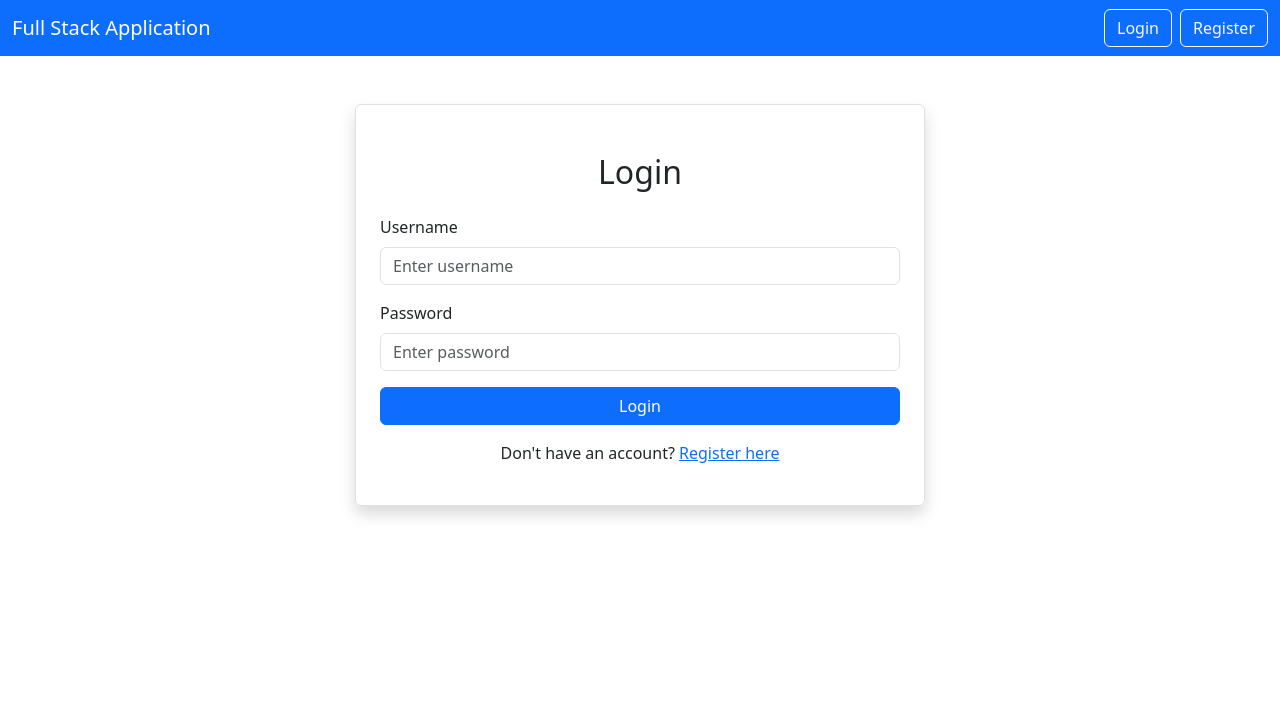
Login Flow Automated Tests › b) Validation Messages Tests › TC_VALIDATION_01: Should show required field validation messages
Step 1. Click the submit button → (640, 406), box [380,387,900,425]
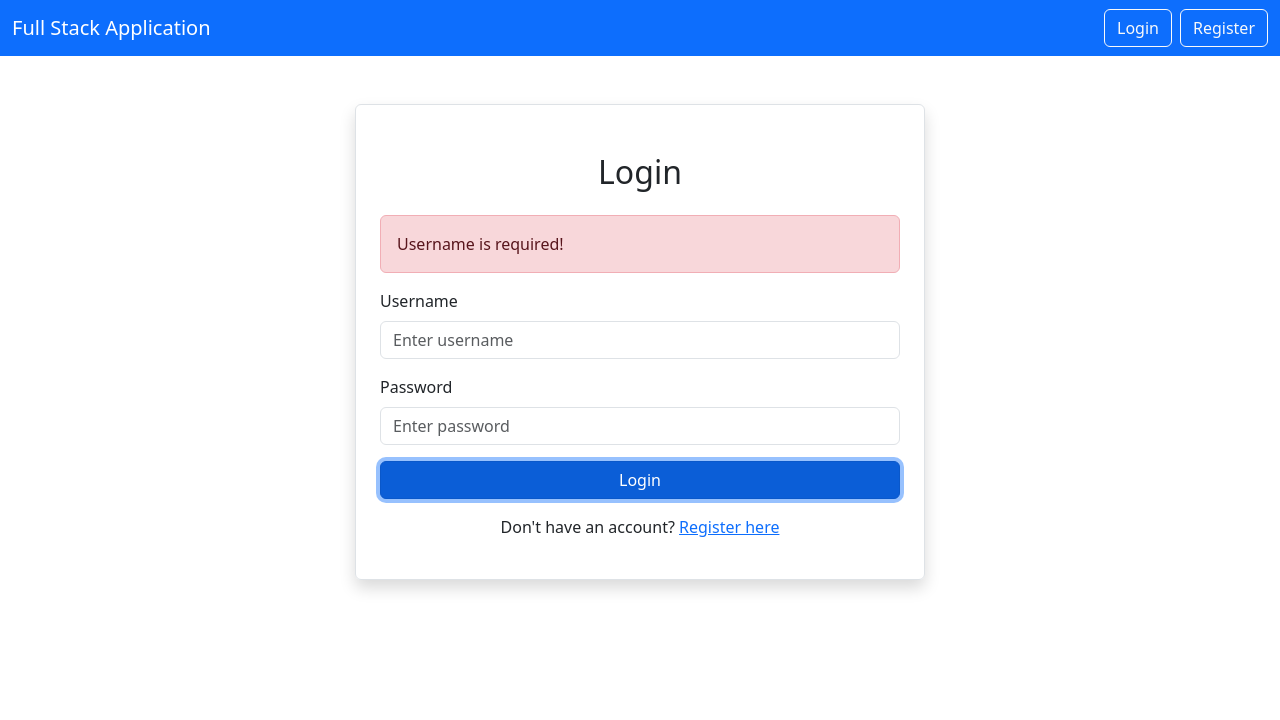
Now the message "Username is required!" is shown, box [380,215,900,273]
Now the message with class "alert-danger" reads "Username is required!", box [397,233,564,255]
